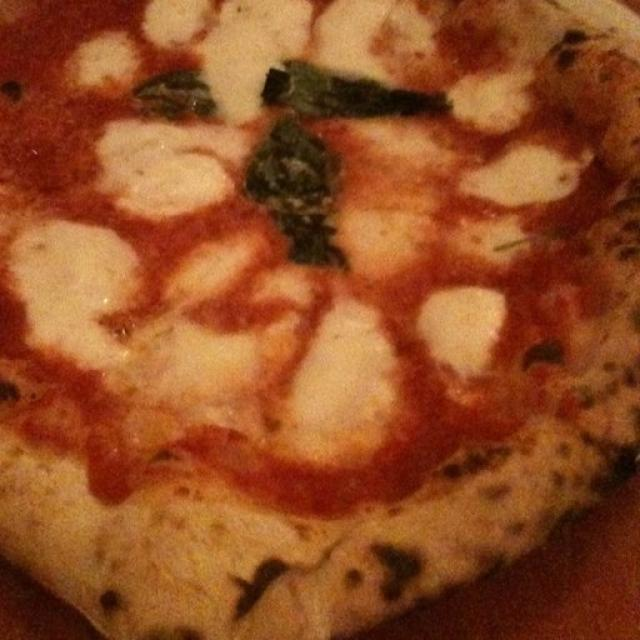Basil: (250, 123, 348, 269), (263, 59, 453, 111), (135, 63, 211, 117)
Cheese: (144, 316, 302, 438), (10, 222, 141, 367), (291, 300, 394, 466), (102, 117, 250, 213), (467, 139, 595, 202), (423, 282, 499, 372), (322, 0, 434, 60), (168, 235, 256, 302), (222, 0, 267, 113), (455, 67, 534, 126), (78, 34, 132, 96), (144, 0, 208, 46)
Pizza: (1, 0, 640, 640)
